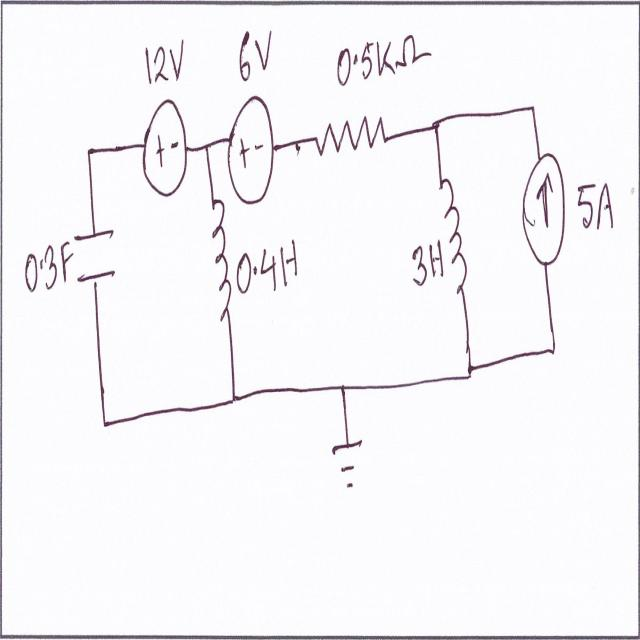capacitor: (72, 212, 119, 300)
inductor: (441, 170, 477, 305), (206, 182, 232, 332)
voltage_source: (140, 96, 188, 200)
